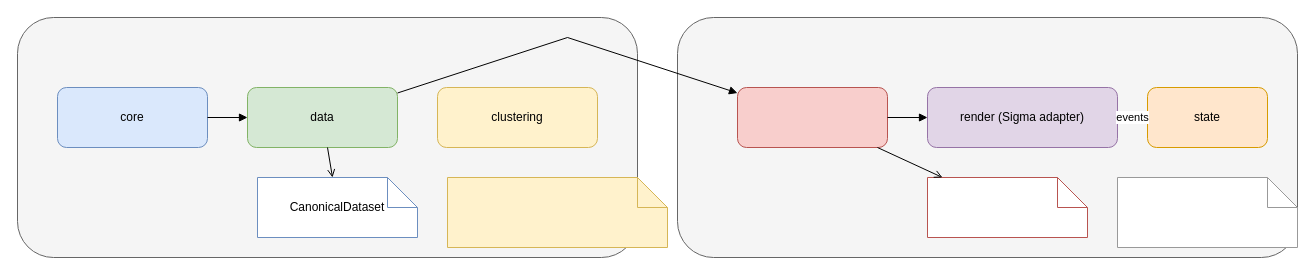
This 1315x275 diagram has some shape labels left out. The shapes that lost their labels are listed below. From the top down, each one's centre as x and y in pixels, then its label:
At pixel 812 117: "layout".
At pixel 557 212: "Clustering module is Phase 2 (after core+data integration stabilizes)".
At pixel 1007 207: "PositionedGraph".
At pixel 1207 212: "Solid: data flow Dashed: control/event flow".
